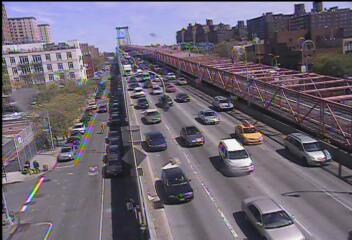neg: (35, 74, 54, 100), (215, 132, 231, 152), (211, 49, 225, 66), (241, 48, 254, 66), (95, 119, 107, 136), (166, 132, 178, 149), (128, 67, 139, 83), (186, 51, 196, 66), (102, 71, 112, 85), (71, 73, 80, 85), (289, 88, 298, 99), (151, 71, 158, 80), (75, 184, 80, 190)
pos: (29, 158, 41, 175), (19, 159, 31, 175)
